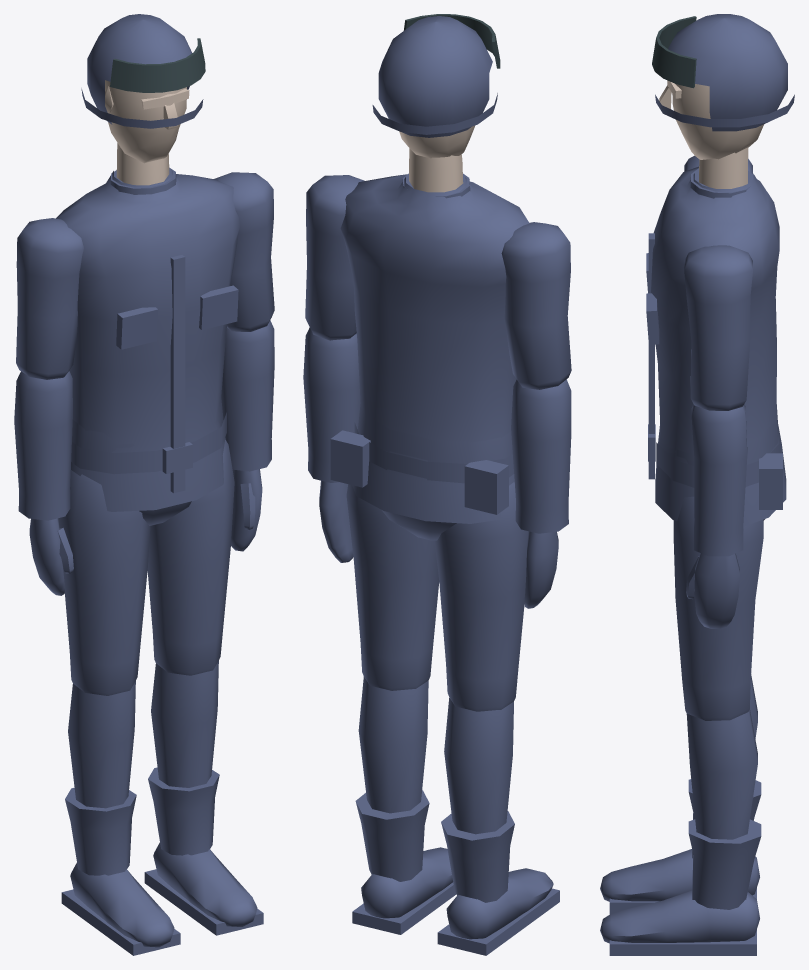
The model's file is police.glb.
3 renders of one model, left to right at view 1: azimuth 30°, elevation 25°; view 2: azimuth 150°, elevation 25°; view 3: azimuth 270°, elevation 25°, orthographic. The views are drawn at different scales.
Visible parts, largest first — view 1: torso, shin_l, shin_r, leg_r, leg_l, forearm_r, arm_r, forearm_l, arm_l, helmet, head, hips (+1 smaller); view 2: torso, shin_r, shin_l, leg_r, leg_l, helmet, hips, forearm_r, arm_r, forearm_l, arm_l, head (+1 smaller); view 3: torso, shin_l, leg_l, forearm_l, helmet, arm_l, head, shin_r, hips, visor.
Boxes of the visible parts, box(x1,y1,x2,y2) form: torso: box(56, 167, 240, 511); shin_l: box(144, 660, 263, 935); shin_r: box(61, 681, 180, 955); leg_r: box(58, 470, 150, 695); leg_l: box(147, 439, 234, 675); forearm_r: box(14, 371, 73, 595); arm_r: box(16, 218, 83, 379); forearm_l: box(221, 320, 274, 551); arm_l: box(214, 172, 274, 331); helmet: box(81, 14, 203, 128); head: box(105, 80, 189, 185); hips: box(71, 398, 226, 525); torso: box(340, 173, 529, 523); shin_r: box(437, 698, 559, 955); shin_l: box(352, 676, 456, 934); leg_r: box(434, 482, 528, 711); leg_l: box(346, 484, 439, 690); helmet: box(372, 16, 497, 137); hips: box(330, 404, 513, 540); forearm_r: box(511, 379, 571, 608); arm_r: box(501, 222, 571, 389); forearm_l: box(303, 327, 360, 562); arm_l: box(305, 175, 364, 340); head: box(399, 125, 475, 192); torso: box(646, 166, 786, 526); shin_l: box(600, 709, 761, 955); leg_l: box(673, 496, 763, 720); forearm_l: box(686, 404, 747, 628); helmet: box(655, 14, 794, 131); arm_l: box(684, 245, 752, 410); head: box(659, 80, 763, 188); shin_r: box(600, 674, 761, 913); hips: box(648, 404, 782, 520); visor: box(652, 16, 696, 88).
Bounding box in the file's own units: 0.5598 × 1.88 × 0.3678.
